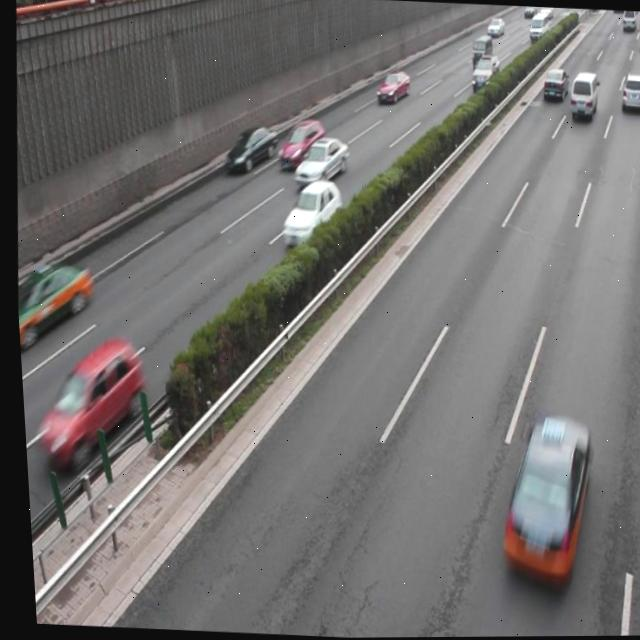car: (486, 410, 592, 593), (40, 336, 142, 476), (12, 257, 91, 343), (276, 177, 341, 251), (220, 121, 277, 176), (289, 133, 347, 187), (272, 116, 326, 173)
